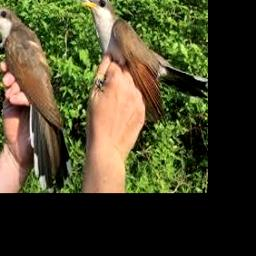Cuckoo: (82, 0, 208, 125), (0, 7, 70, 191)
